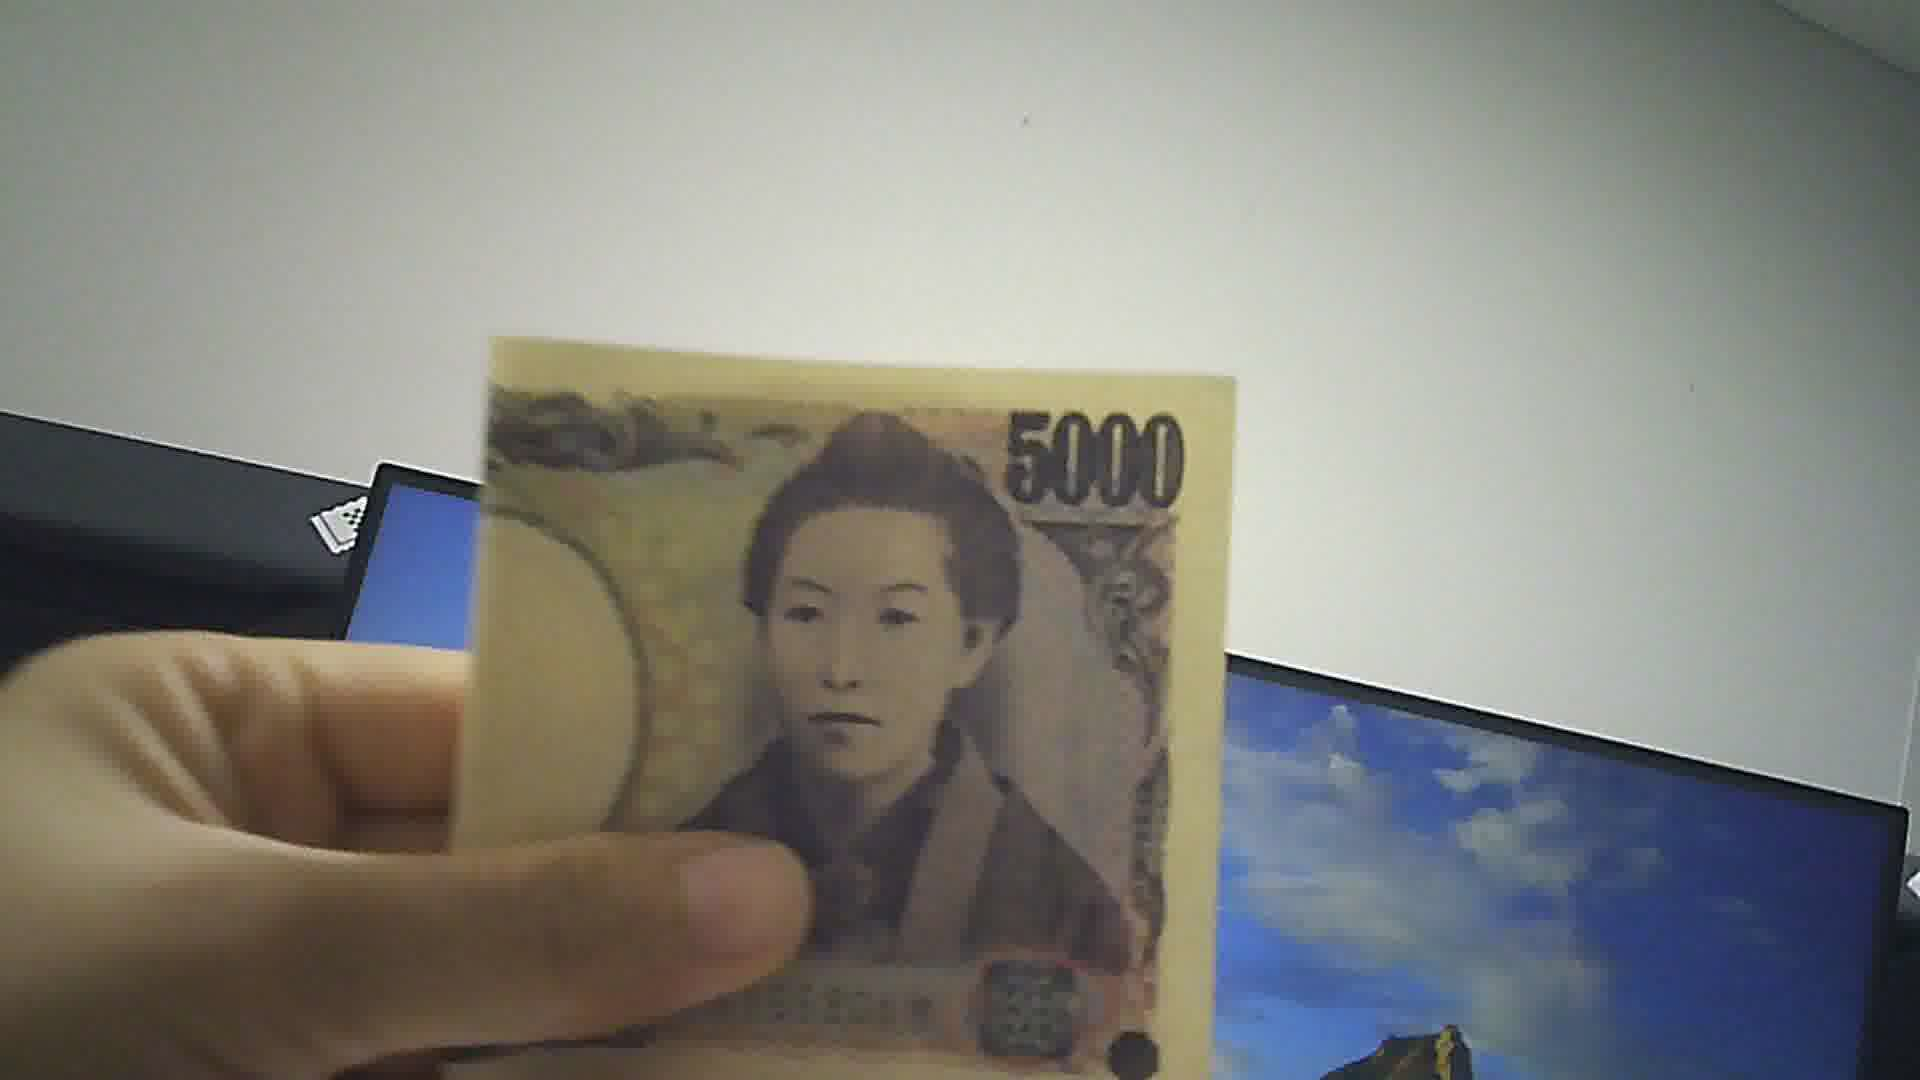5,000 Yen: (442, 328, 1221, 1079)
